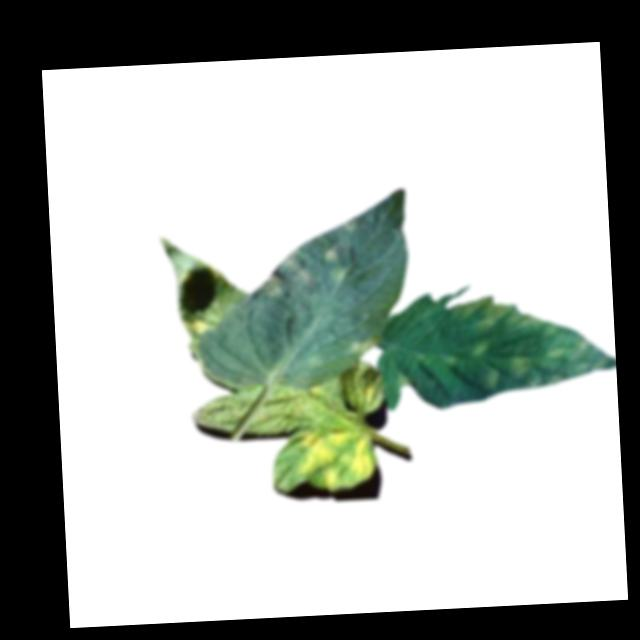Leaf_Mold: (296, 423, 376, 494), (450, 290, 550, 339), (255, 252, 313, 302), (324, 242, 352, 282), (503, 351, 534, 380), (479, 364, 504, 393), (347, 337, 379, 357)
